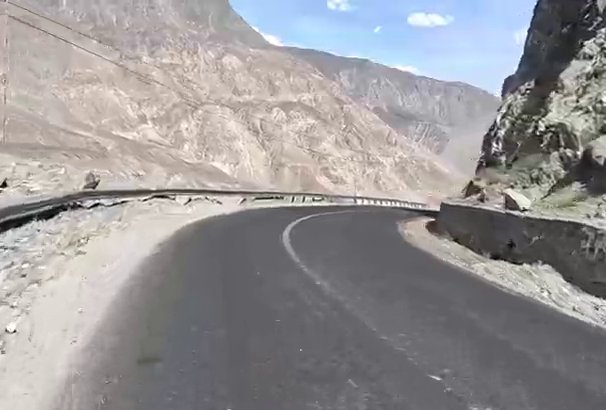stright: (221, 180, 490, 306)
